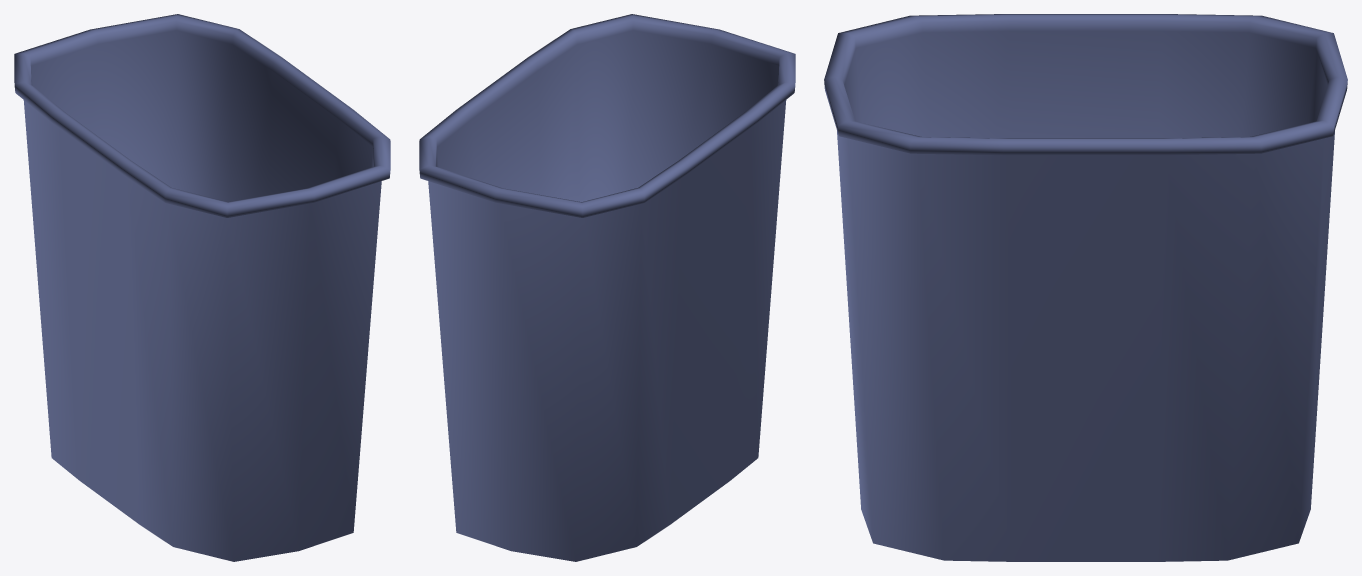
File: Recycling Bin.fbx
The picture shows the model from 3 angles, left to right: view 1: azimuth 30°, elevation 25°; view 2: azimuth 150°, elevation 25°; view 3: azimuth 270°, elevation 25°; orthographic projection. The views are drawn at different scales.
Visible parts, largest first — view 1: Recycline Bin; view 2: Recycline Bin; view 3: Recycline Bin.
Part boxes in pixels (x1,y1,x2,y2): Recycline Bin: (14, 14, 390, 561); Recycline Bin: (419, 14, 795, 561); Recycline Bin: (824, 14, 1347, 561).
Size of the model in its own units: 0.5739 by 0.8811 by 0.9675.
